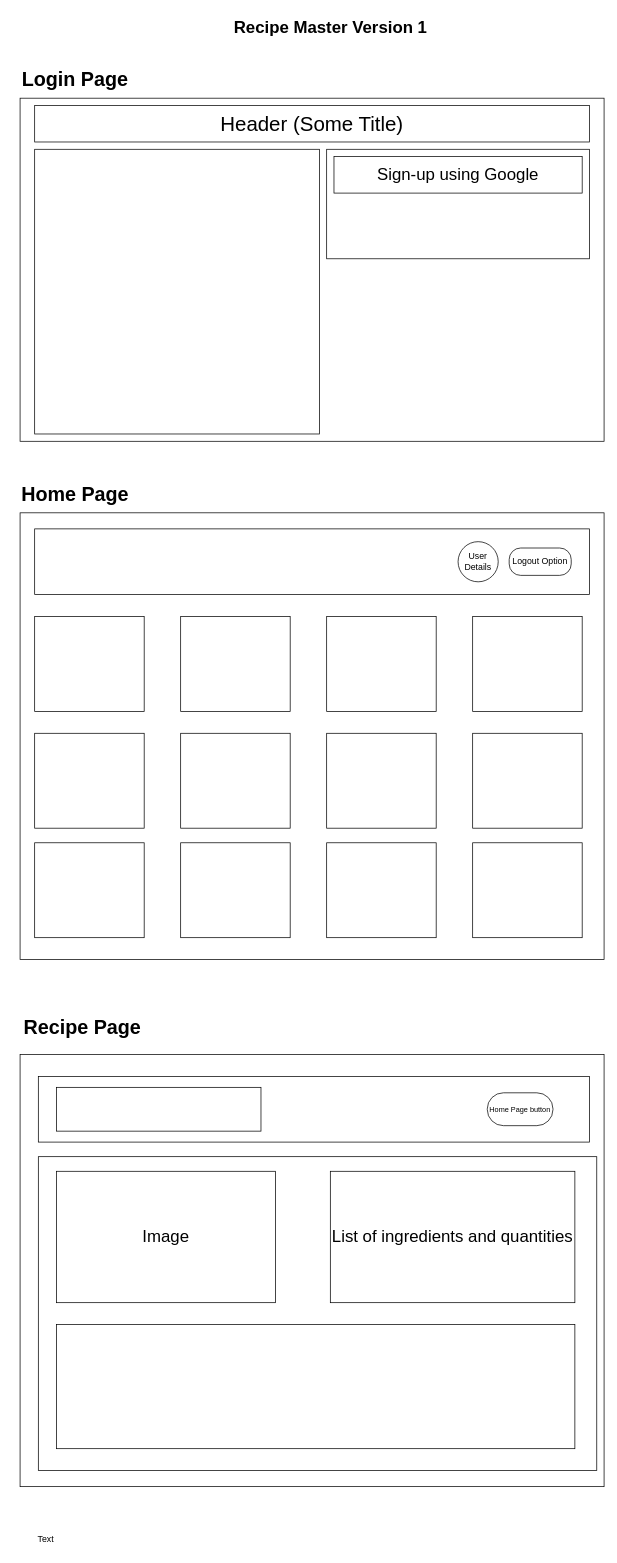
Image size: 617x1563. Some labels were removed from this diagram. The shapes that lost their labels are listed below. From the top down, each one's centre as x and y in pixels, then its label:
the point at 176,291: Photo and some Details
the point at 158,1109: Title of item
the point at 315,1386: Instructions
